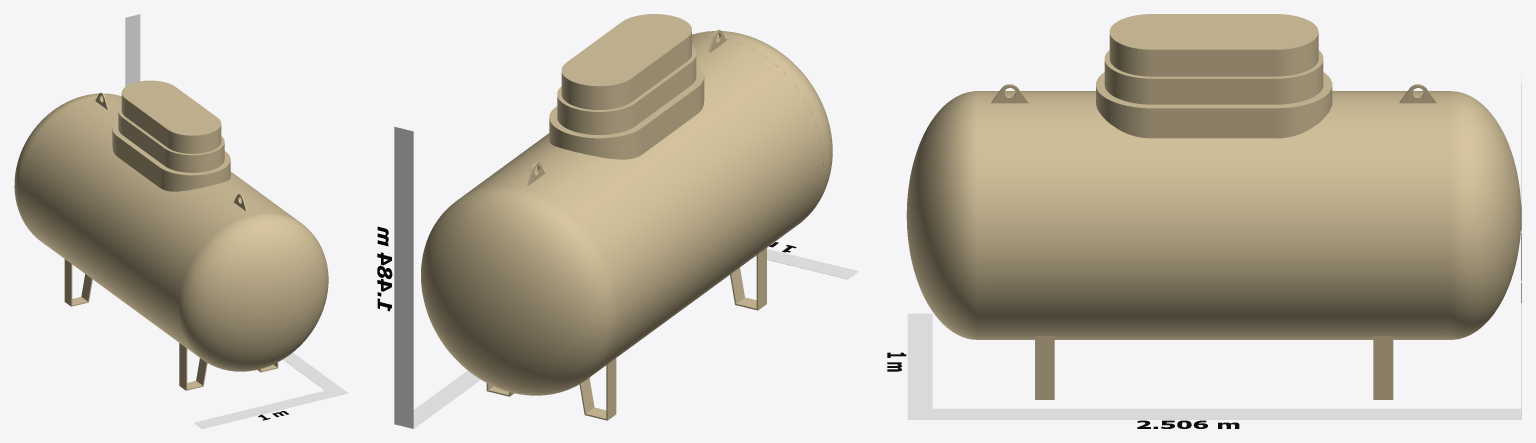
File: android_tank_1750L_HUG.glb
3 views of the same model, side by side, from view 1: azimuth 30°, elevation 25°; view 2: azimuth 150°, elevation 25°; view 3: azimuth 270°, elevation 25° (orthographic). The views are drawn at different scales.
Visible parts, largest first — view 1: Solid1 (×7); view 2: Solid1 (×7); view 3: Solid1 (×7).
Part boxes in pixels (x1,y1,x2,y2): Solid1 (×7): [14, 14, 347, 428]; Solid1 (×7): [377, 14, 858, 428]; Solid1 (×7): [887, 14, 1521, 428].
Size of the model in its own units: 1.09 by 1.48 by 2.55.
